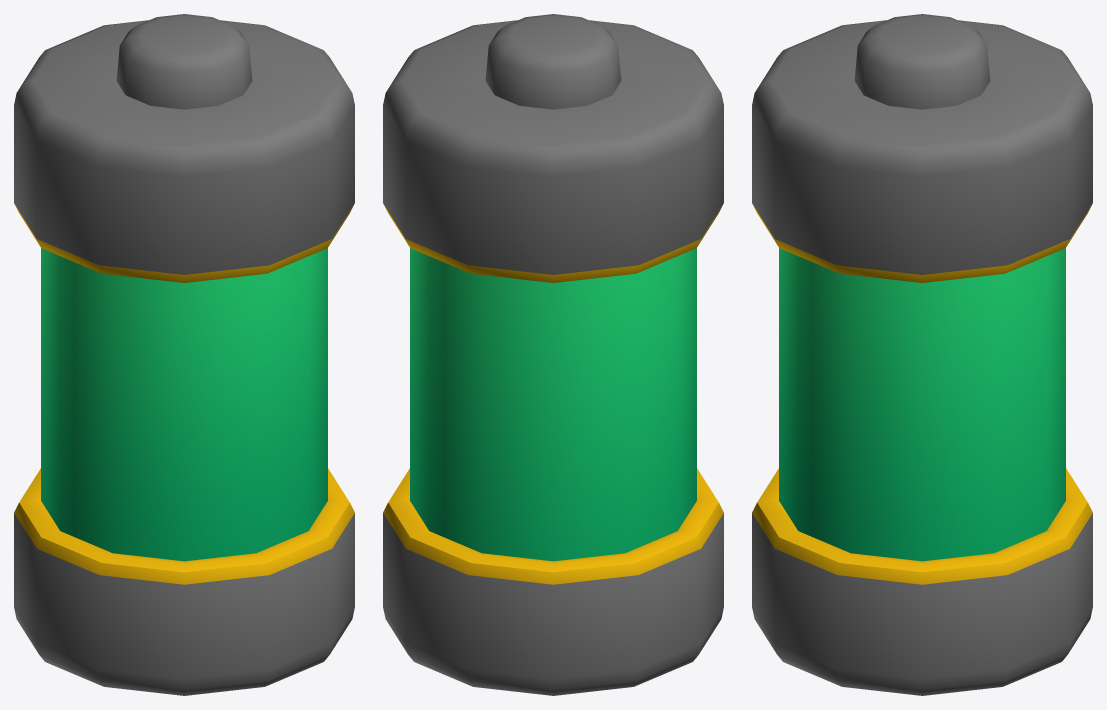
The model's file is Battrey_1.fbx.
3 renders of one model, left to right at view 1: azimuth 30°, elevation 25°; view 2: azimuth 150°, elevation 25°; view 3: azimuth 270°, elevation 25°, orthographic.
Visible parts, largest first — view 1: Battrey_1; view 2: Battrey_1; view 3: Battrey_1.
Boxes of the visible parts, bbox=[...] form: Battrey_1: bbox=[14, 14, 354, 695]; Battrey_1: bbox=[383, 14, 723, 695]; Battrey_1: bbox=[752, 14, 1092, 695].
Bounding box in the file's own units: 0.1579 × 0.3047 × 0.1579.
